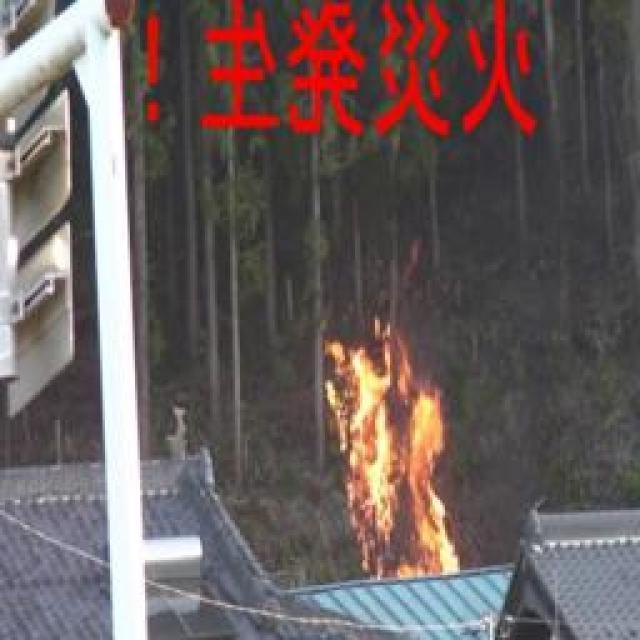Fire: (301, 330, 463, 581)
